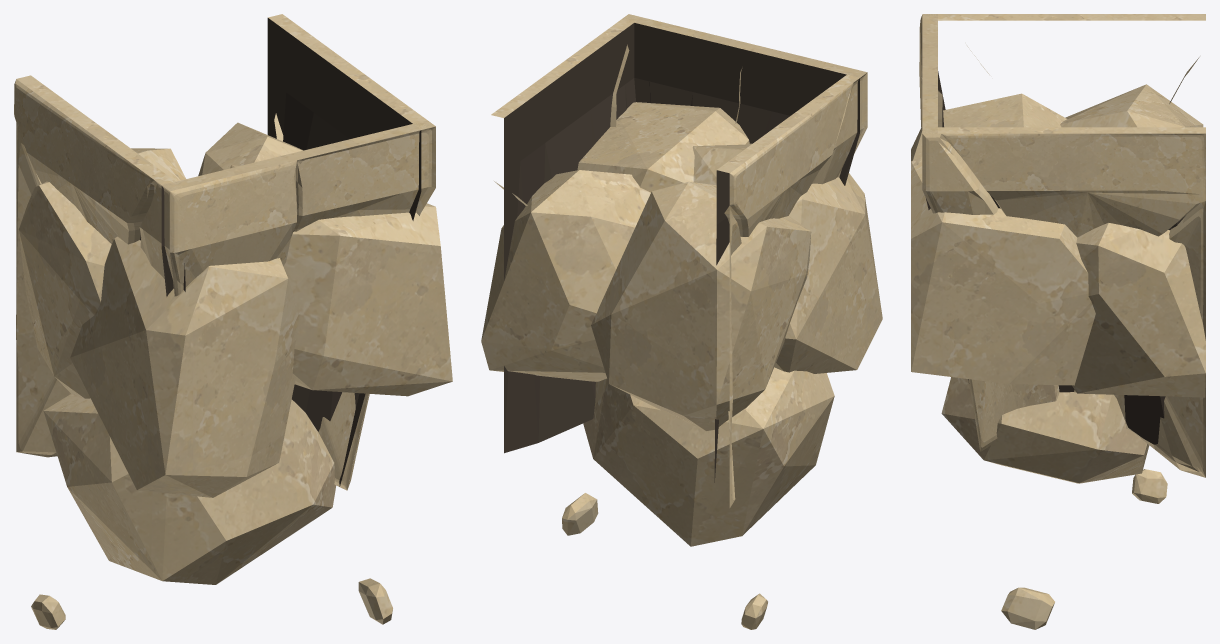
File: ground_bottom_square_end_02.glb
3 renders of one model, left to right at view 1: azimuth 30°, elevation 25°; view 2: azimuth 150°, elevation 25°; view 3: azimuth 270°, elevation 25°, orthographic. The views are drawn at different scales.
Visible parts, largest first — view 1: GroundBottomSquareEnd02_Body; view 2: GroundBottomSquareEnd02_Body; view 3: GroundBottomSquareEnd02_Body.
Boxes of the visible parts, <box> form: GroundBottomSquareEnd02_Body: <box>14,14,452,629</box>; GroundBottomSquareEnd02_Body: <box>481,14,882,629</box>; GroundBottomSquareEnd02_Body: <box>911,14,1205,629</box>.
Bounding box in the file's own units: 1.08 × 1.92 × 1.04.
Materials: 11 (10 with a texture image).
